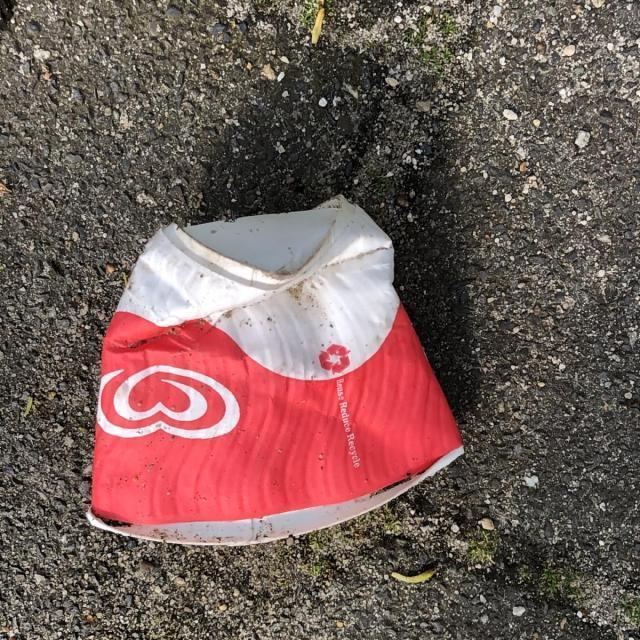Paper: (84, 192, 467, 550)
